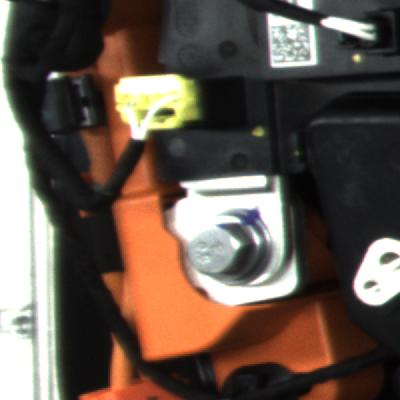nut_b: (174, 205, 291, 293)
